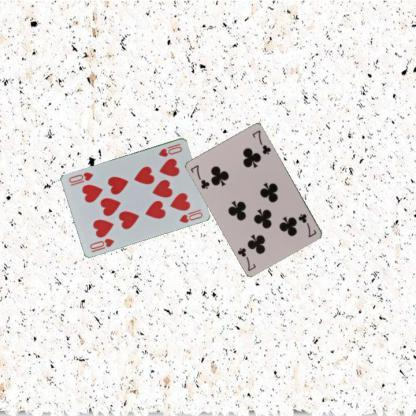10h: (156, 141, 183, 158), (87, 236, 116, 250)
7c: (188, 162, 211, 190), (296, 211, 318, 238)
